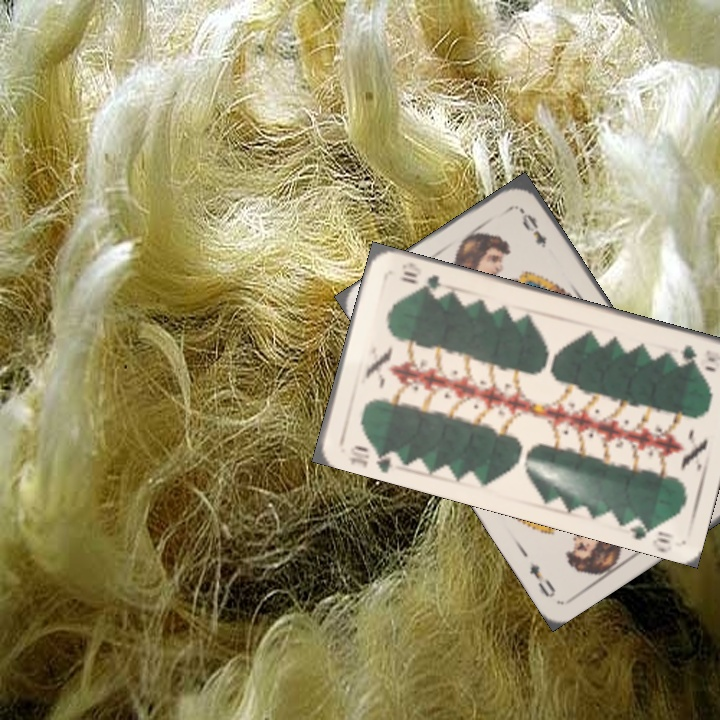G10: (345, 441, 401, 474), (677, 341, 718, 366)
